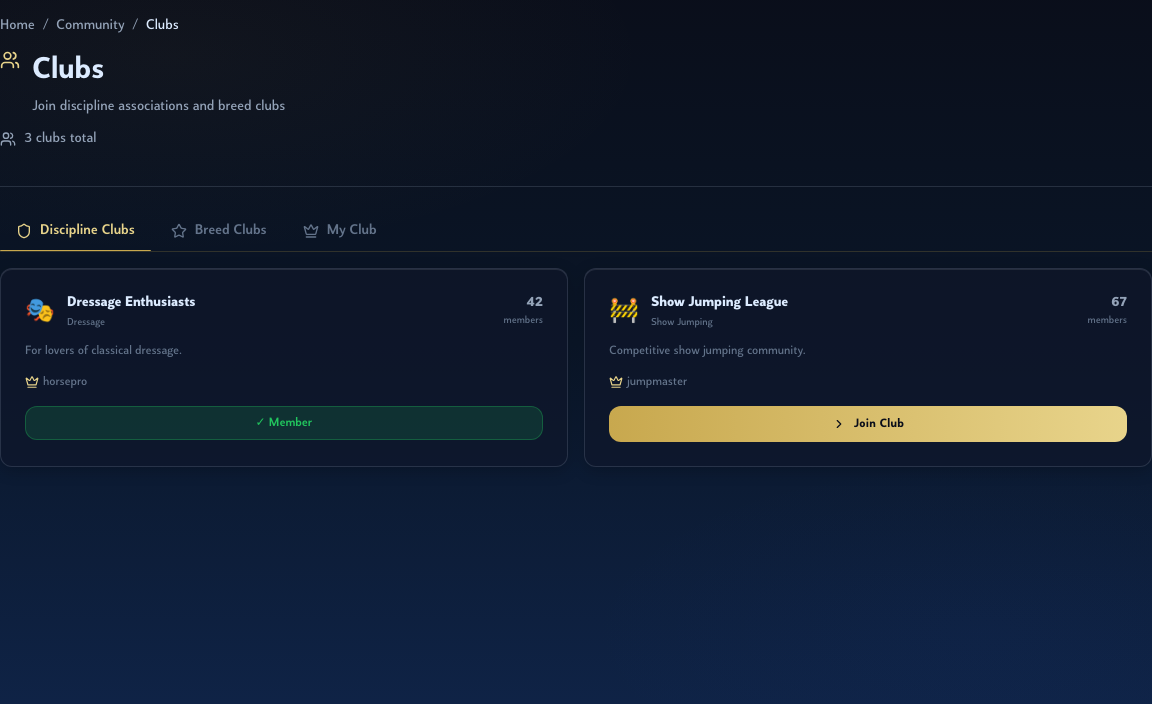
Scenario: ClubsPage › shows create club form when create club toggle is clicked
Click the tab with test id "tab-my-club".
click(340, 231)  # box [287, 211, 393, 251]
(page scrolled)
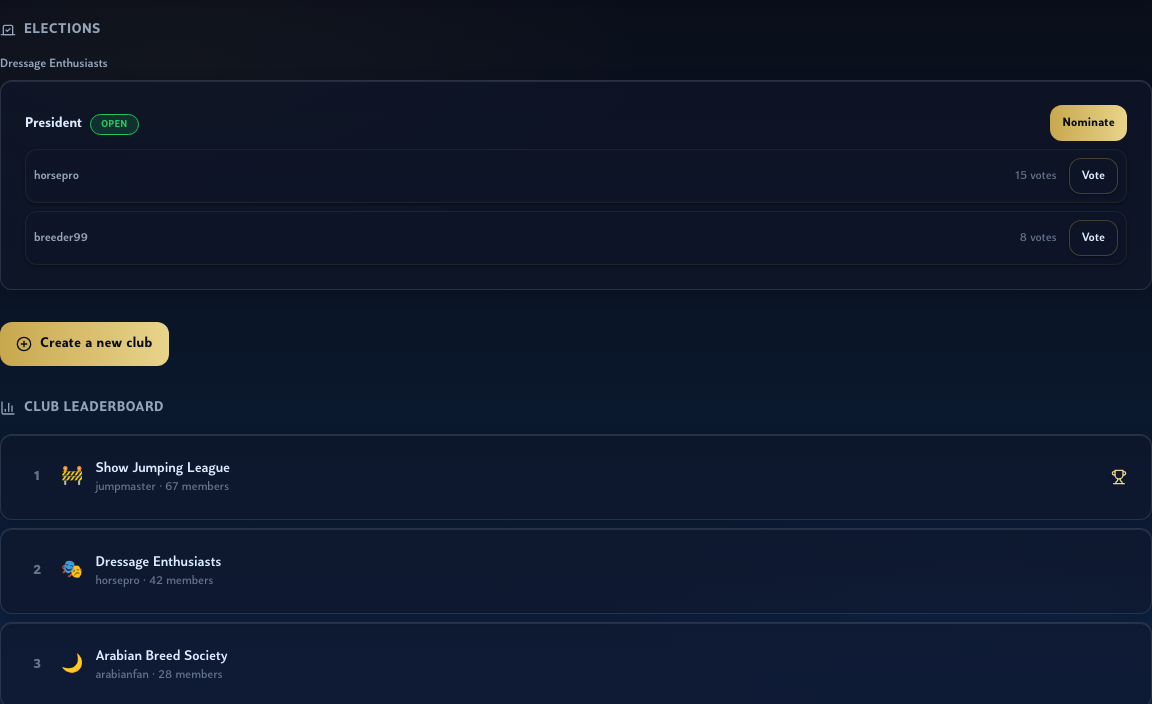
Click the button with test id "create-club-toggle".
click(84, 344)  # box [0, 322, 168, 366]
(page scrolled)
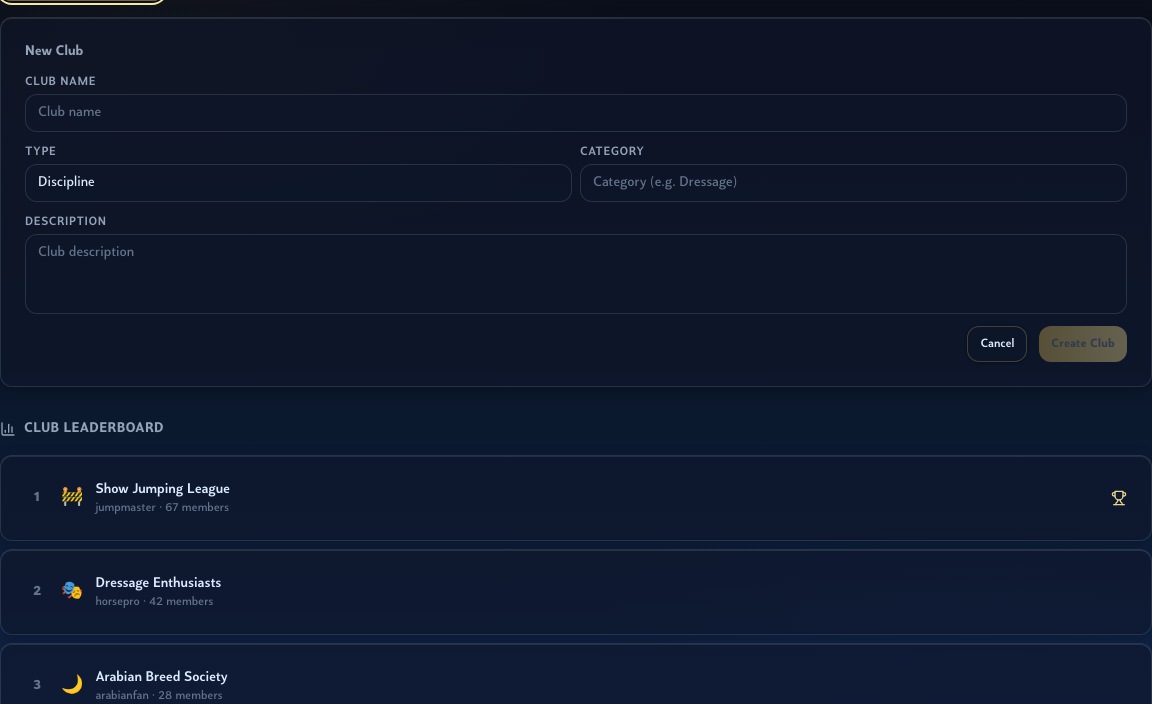
Now the field with test id "create-club-name" is shown, box [25, 94, 1127, 132]
Now the dropdown with test id "create-club-type" is shown, box [25, 164, 572, 202]
Now the field with test id "create-club-category" is shown, box [580, 164, 1127, 202]
